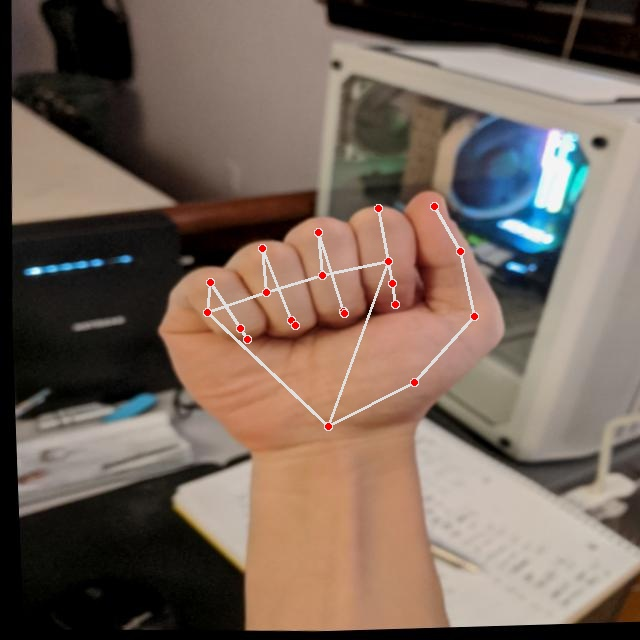A: (133, 176, 521, 466)
